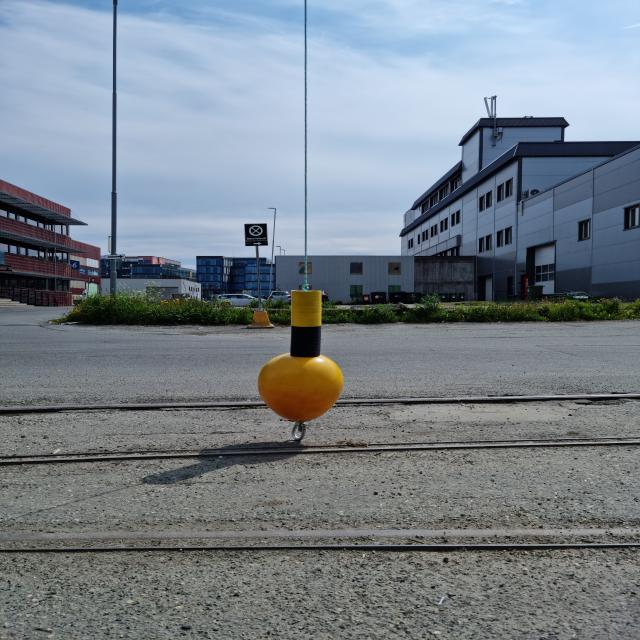west: (260, 290, 344, 420)
